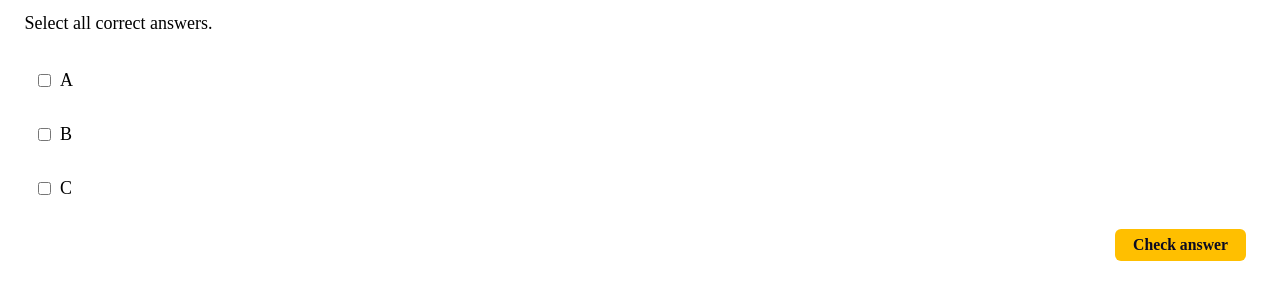
Test: SelectAll › shows incorrect feedback for a partial selection
This screenshot has width=1267, height=282.
Click the checkbox labelled "A".
click(44, 80)  # box [38,74,51,86]
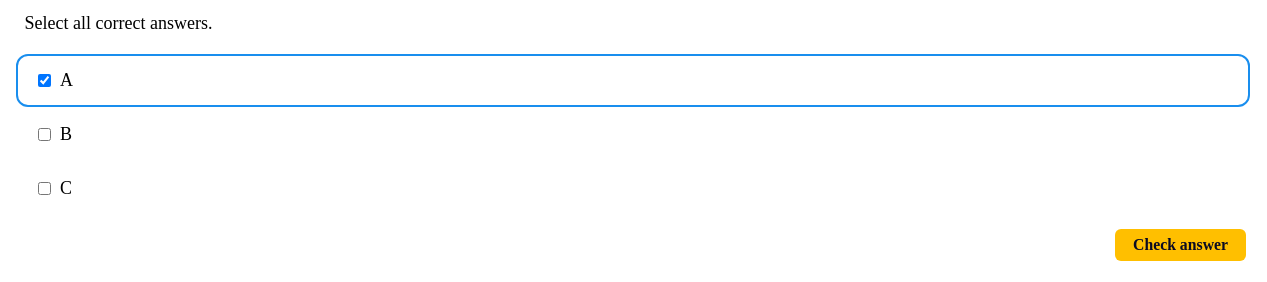
Click the button "Check answer".
click(1181, 245)  # box [1115,228,1246,261]
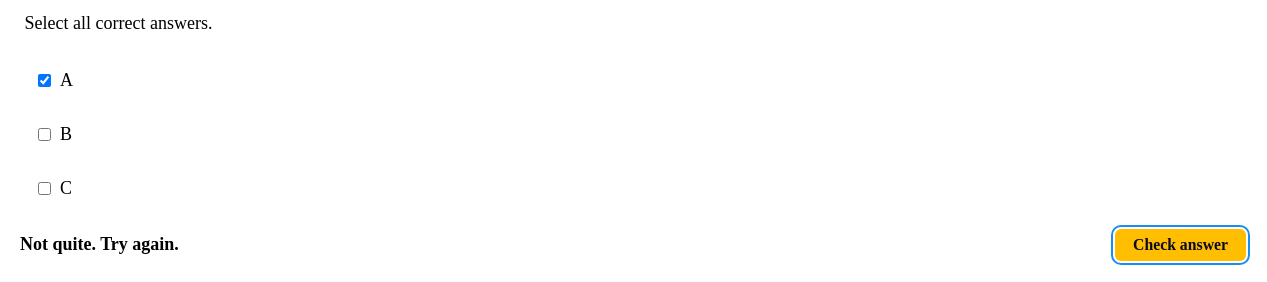
Check: the message reads "Not quite. Try again.", box [20,234,179,254]
